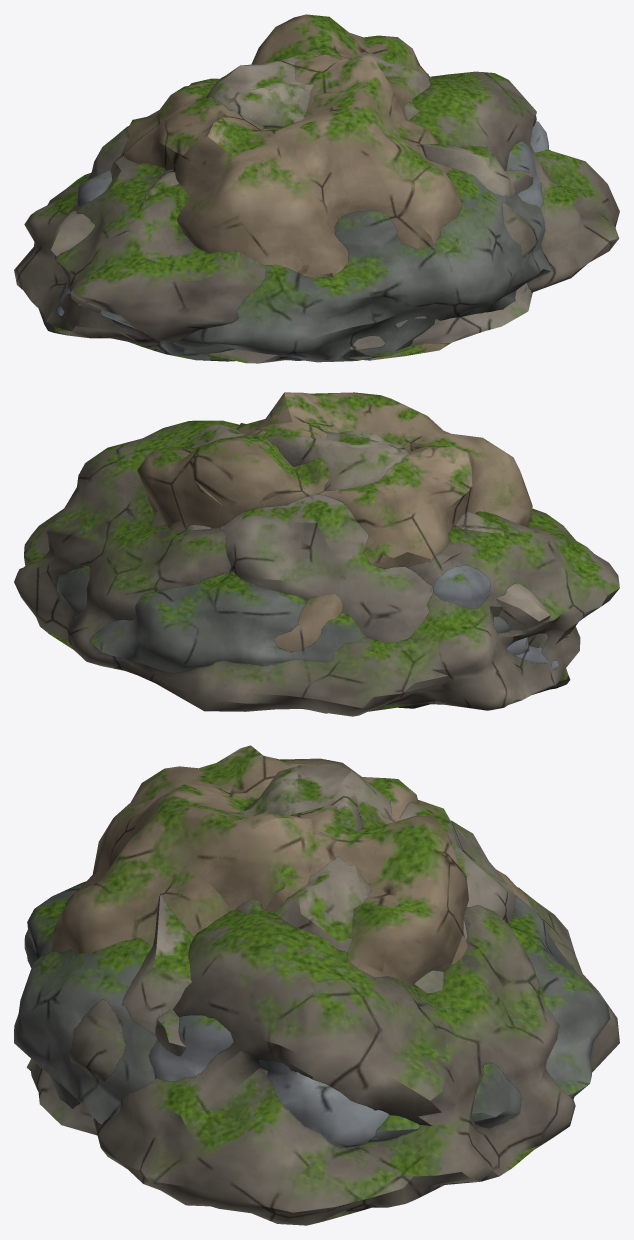
The model's file is rocks.glb.
The picture shows the model from 3 angles, top to bottom: view 1: azimuth 30°, elevation 25°; view 2: azimuth 150°, elevation 25°; view 3: azimuth 270°, elevation 25°; orthographic projection. The views are drawn at different scales.
Parts seen in each view (by area): view 1: Rock2, Rock5, Rock3, Rock4, Rock0, Rock1; view 2: Rock5, Rock2, Rock3, Rock0, Rock4, Rock1; view 3: Rock5, Rock2, Rock3, Rock4, Rock1, Rock0.
Boxes of the visible parts, left/top/right/bottom form: Rock2: left=121, top=14, right=462, bottom=360; Rock5: left=14, top=71, right=619, bottom=350; Rock3: left=78, top=169, right=551, bottom=362; Rock4: left=50, top=51, right=515, bottom=256; Rock0: left=87, top=77, right=533, bottom=363; Rock1: left=56, top=121, right=548, bottom=361; Rock5: left=14, top=420, right=619, bottom=716; Rock2: left=137, top=392, right=532, bottom=713; Rock3: left=56, top=566, right=568, bottom=709; Rock0: left=150, top=493, right=432, bottom=642; Rock4: left=179, top=423, right=550, bottom=647; Rock1: left=433, top=565, right=558, bottom=669; Rock5: left=68, top=887, right=619, bottom=1225; Rock2: left=26, top=745, right=532, bottom=1070; Rock3: left=14, top=881, right=610, bottom=1141; Rock4: left=118, top=763, right=392, bottom=1034; Rock1: left=149, top=1015, right=388, bottom=1147; Rock0: left=31, top=802, right=515, bottom=1135.
Bounding box in the file's own units: 2.77 × 1.1 × 2.08.
6 materials, 6 textured.
